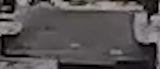bag: (2, 3, 157, 69)
